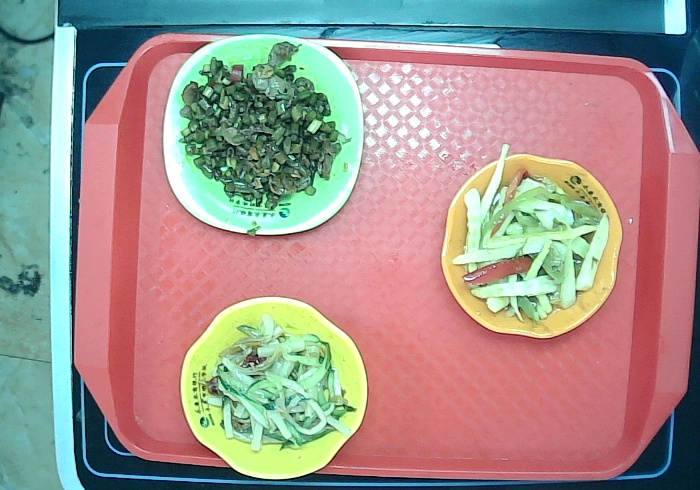YKMZ-Huang_Se_Ao_Bian_Wan: (179, 294, 368, 481)
YKMZ-Ju_Se_Ao_Bian_Wan: (439, 153, 625, 338)
YKMZ-Lv_Se_Fang_Die: (161, 31, 366, 235)
